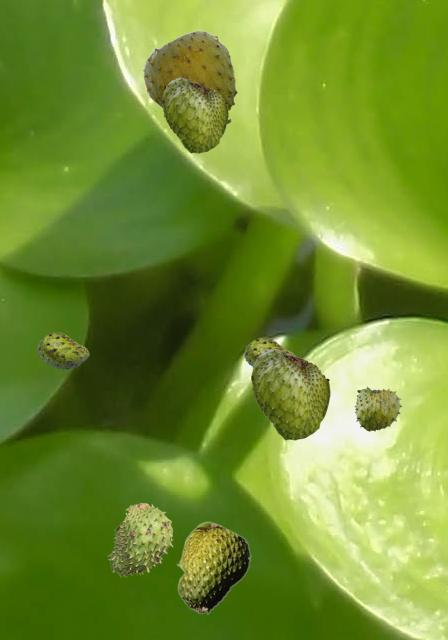guyabano: (141, 30, 237, 124), (251, 347, 329, 439), (176, 521, 250, 614), (162, 76, 227, 152), (107, 503, 172, 576), (354, 386, 401, 430), (37, 332, 88, 368), (244, 337, 295, 365)
